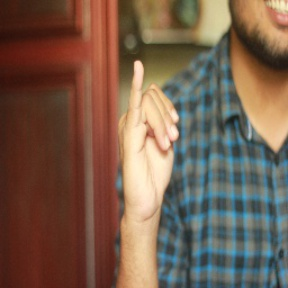I: (113, 59, 183, 215)
